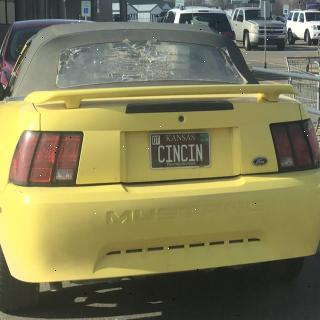license: (150, 132, 212, 172)
